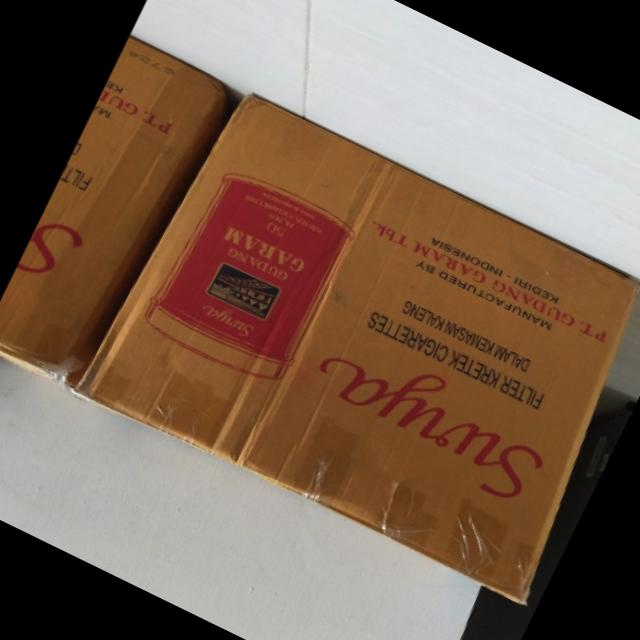Kardus: (64, 75, 640, 612), (0, 34, 238, 400)
